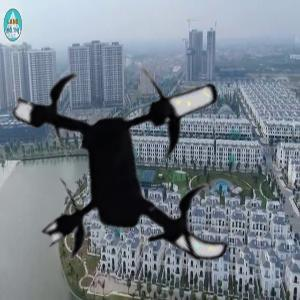drone: (8, 34, 269, 295)
